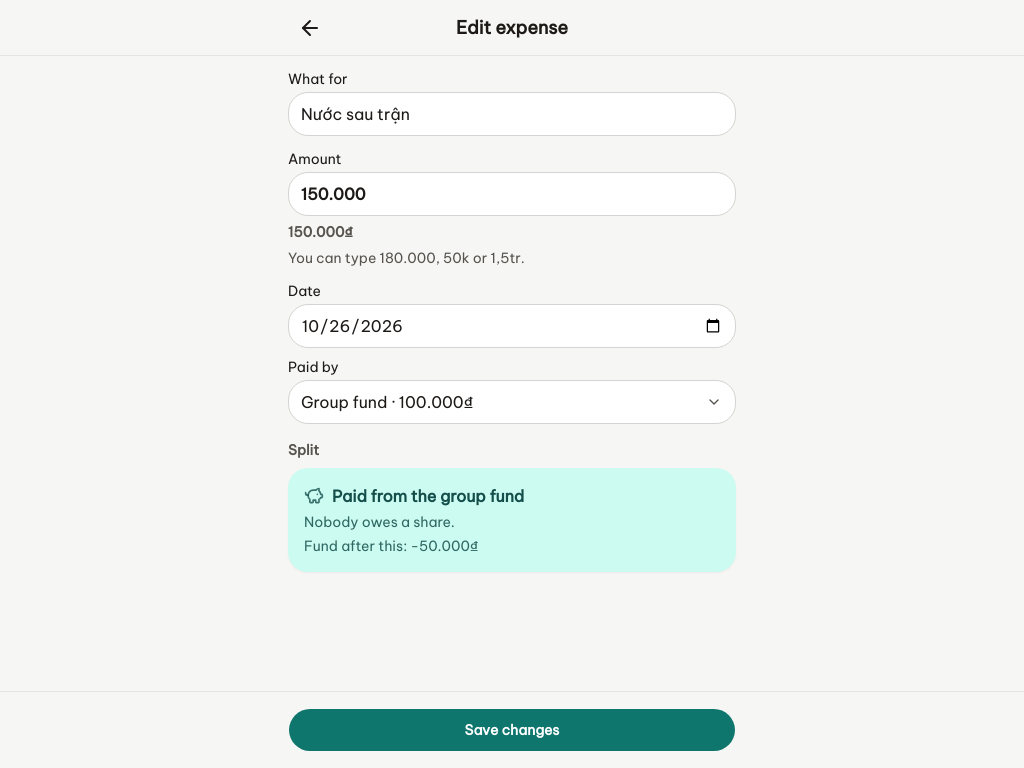
it: fund checks in the forms › below 0₫ after a race, raising a fund-paid expense is refused
Replace the text in the field labelled "Amount" with "160k" at coordinates (512, 194), box [288,172,736,216]
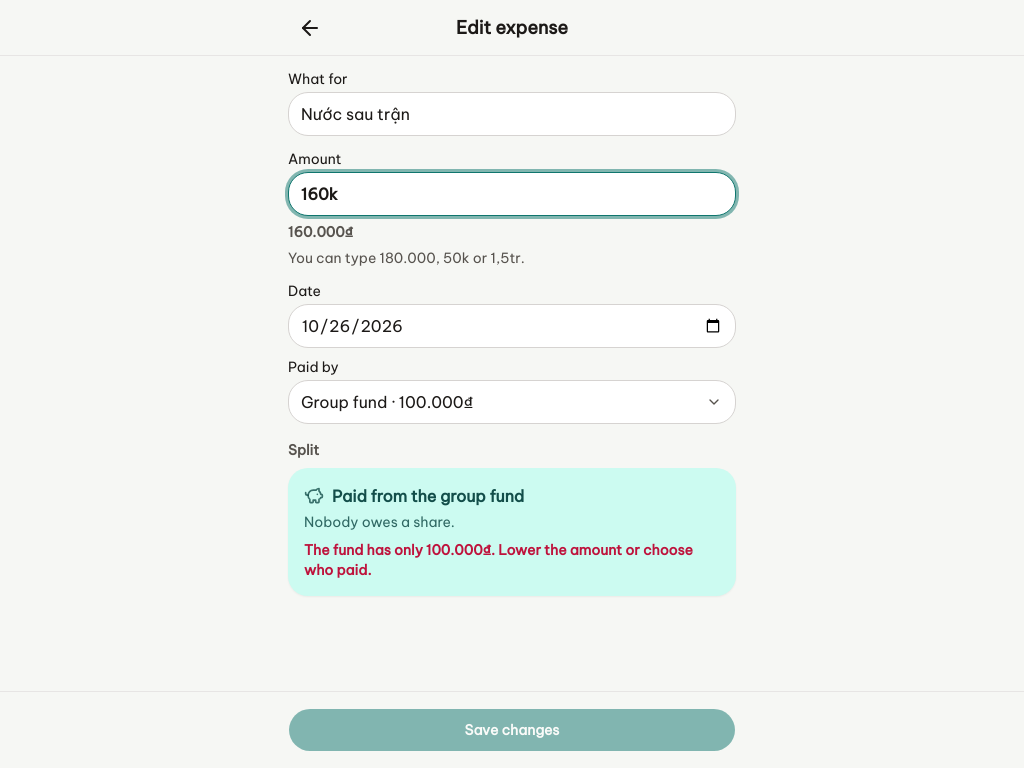
Check: the button "Save changes" is disabled, box [288,708,736,752]
Check: the text "The fund has only 100.000₫. Lower the amount or choose who paid." is shown, box [304,540,720,580]
